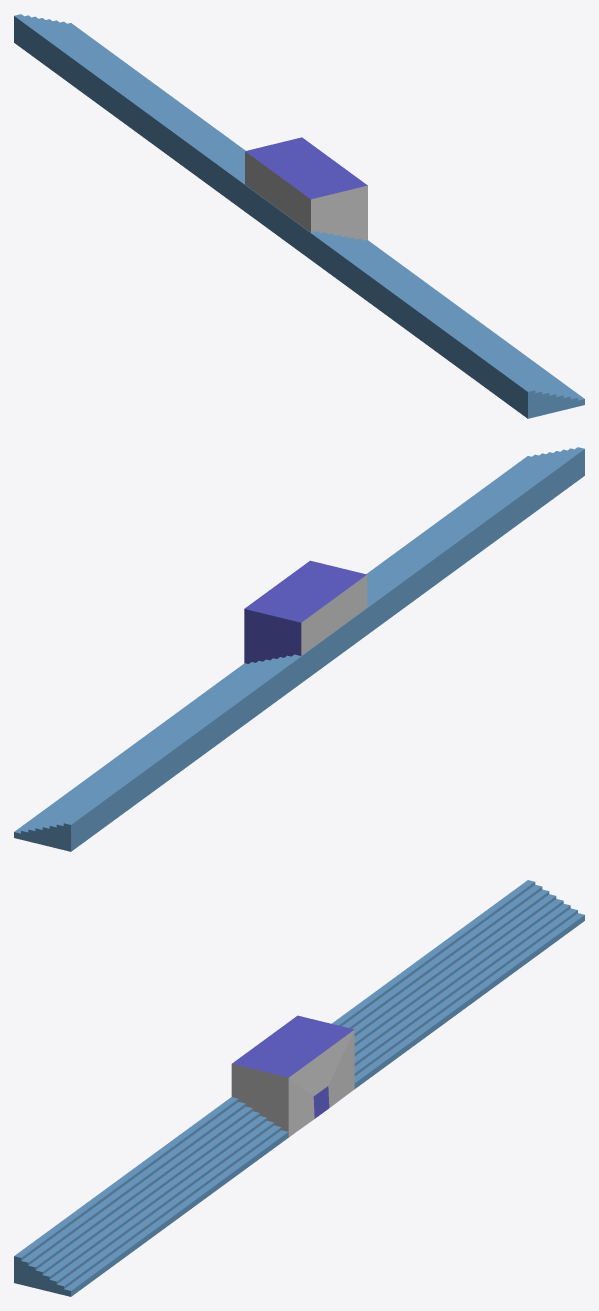
File: 축구장_계단.obj
3 renders of one model, top to bottom at view 1: azimuth 30°, elevation 25°; view 2: azimuth 150°, elevation 25°; view 3: azimuth 330°, elevation 25°, orthographic.
Parts seen in each view (by area): view 1: Cube, 큐브; view 2: Cube, 큐브; view 3: Cube, 큐브.
Part boxes in pixels (x1,y1,x2,y2): Cube: (14, 14, 584, 418); 큐브: (245, 137, 367, 240); Cube: (14, 447, 584, 851); 큐브: (244, 560, 367, 663); Cube: (14, 880, 584, 1296); 큐브: (231, 1015, 354, 1137).
Size of the model in its own units: 10.64 by 10.09 by 156.
